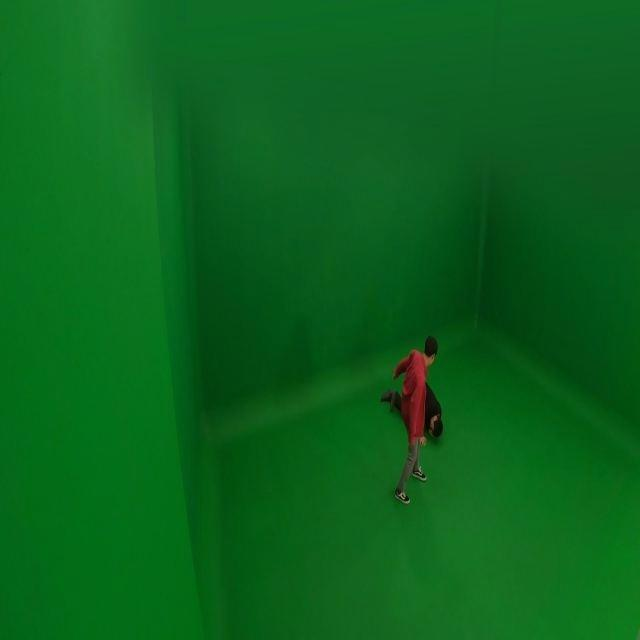fight: (379, 332, 446, 505)
